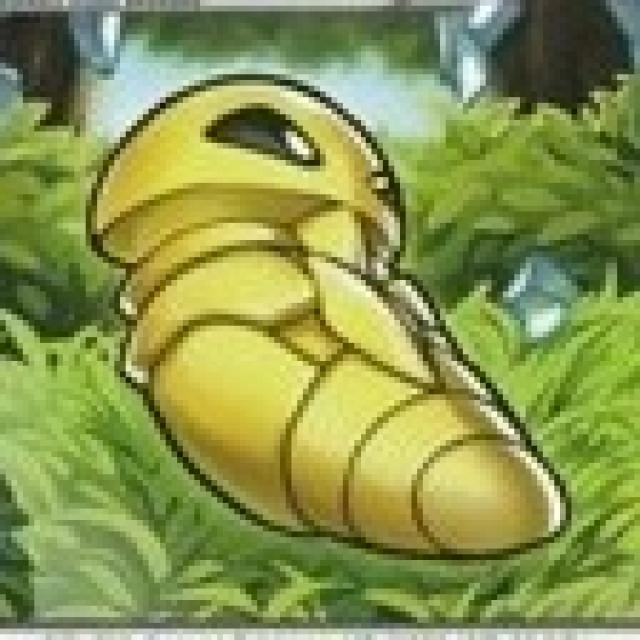Kakuna: (75, 61, 585, 588)
